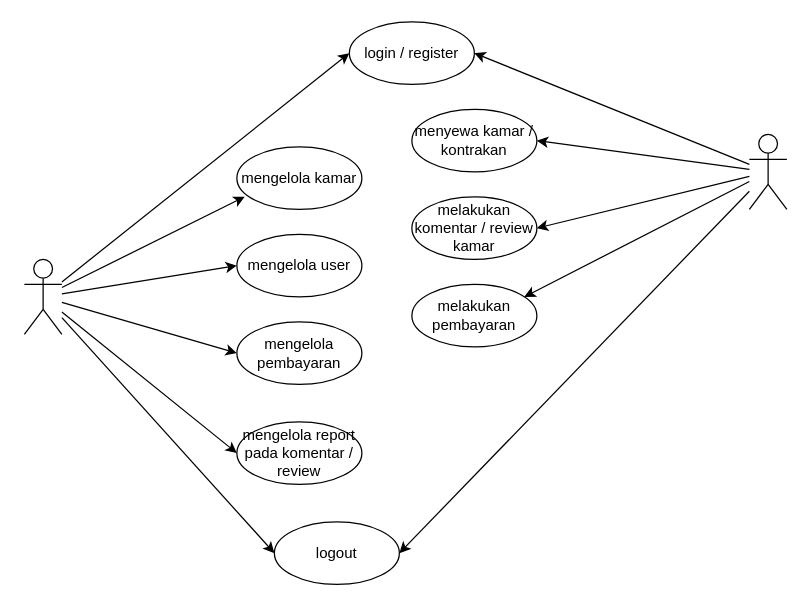
Some shapes in this 809 by 606 pixel diagram are drawn without their labels. Here are the shapes that lost their labels. From the top down, the centre of each, then its label:
point 767,171: User
point 42,296: Admin
